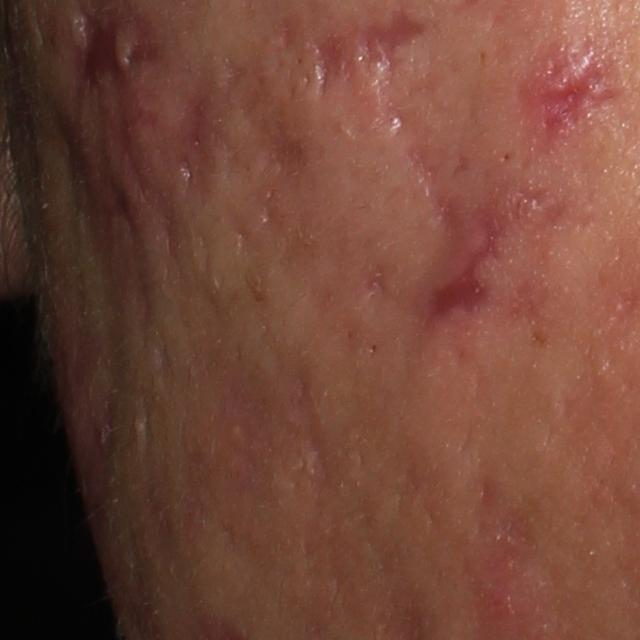atrophic_scar: (426, 170, 546, 319), (307, 10, 434, 102), (528, 50, 630, 145), (240, 75, 315, 175), (285, 376, 335, 491), (401, 142, 449, 197), (79, 16, 114, 89)
hypertrophic_scar: (57, 68, 212, 225), (111, 28, 134, 75)
